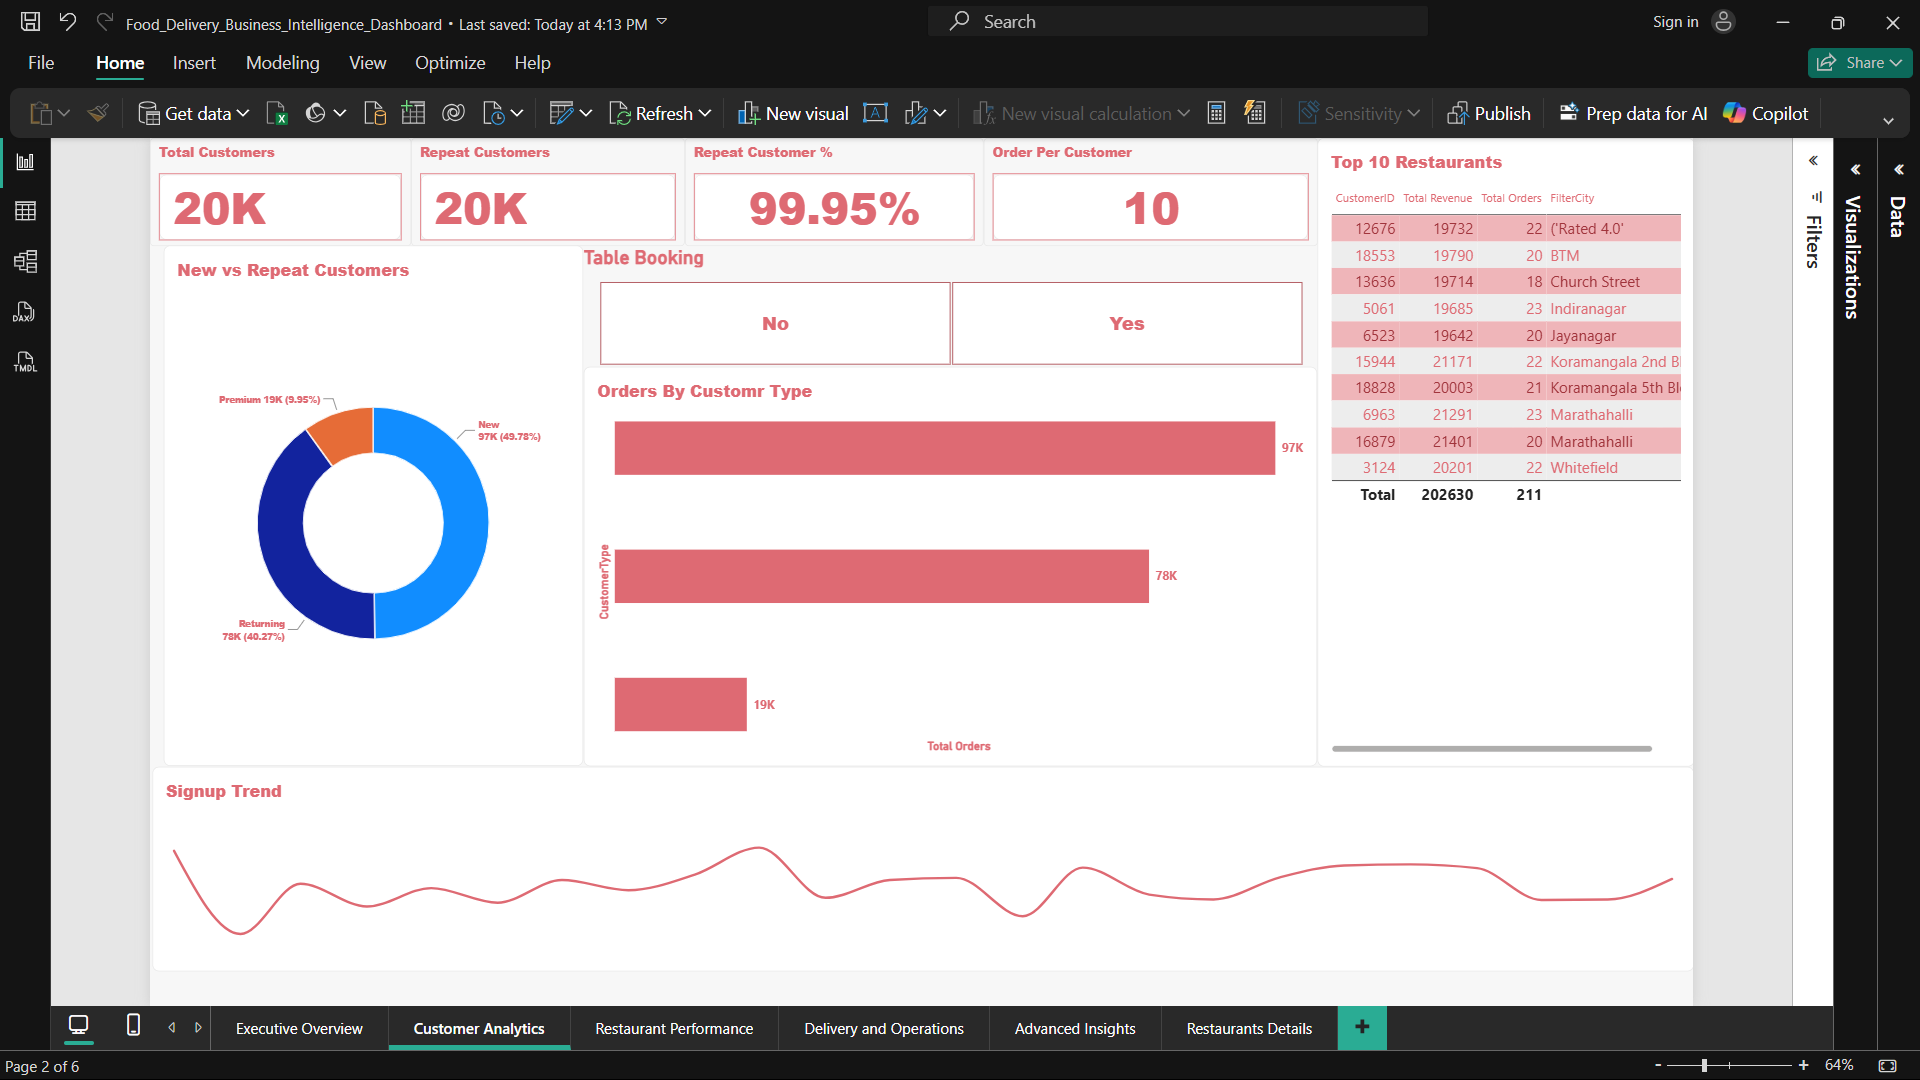

This screenshot's page, from the dashboard's own definition file:
{"tool":"powerbi","page":{"name":"Customer Analytics","canvas":[1920,1080],"ordinal":1},"visuals":[{"type":"cardVisual","title":"Total Customers","fields":{"Data":["Orders.Total Customers"]},"box":[0,0,324.4,134.3],"z":0},{"type":"cardVisual","title":"Repeat Customers","fields":{"Data":["Orders.Repeat Customers"]},"box":[324.4,0,340.1,134.3],"z":1000},{"type":"cardVisual","title":"Repeat Customer %","fields":{"Data":["Orders.Repeat Customer %"]},"box":[664.5,0,371.5,134.3],"z":2000},{"type":"cardVisual","title":"Order Per Customer","fields":{"Data":["Orders.Orders Per Customer"]},"box":[1036,0,415.1,134.3],"z":3000},{"type":"lineChart","title":"Signup Trend","fields":{"Category":["Customers.SignupDate.Variation.Date Hierarchy.Year","Customers.SignupDate.Variation.Date Hierarchy.Month"],"Y":["Orders.Total Customers"]},"box":[3.5,781.4,1916.9,254.7],"z":4000},{"type":"barChart","title":"Orders By Customr Type","fields":{"Y":["Orders.Total Orders"],"Category":["Customers.CustomerType"]},"box":[539,284.3,912.2,497.1],"z":5000},{"type":"donutChart","title":"New vs Repeat Customers","fields":{"Category":["Customers.CustomerType"],"Y":["Orders.Total Orders"]},"box":[17.4,134.3,521.5,647.1],"z":6000},{"type":"tableEx","title":"Top 10 Restaurants","fields":{"Values":["Orders.CustomerID","Orders.Total Revenue","Orders.Total Orders","Customers.FilterCity"]},"box":[1451.2,0,469.2,781.4],"z":7000},{"type":"slicer","title":"Table Booking","fields":{"Values":["Restaurants.Book_Table 2"]},"box":[539,134.3,912.2,150],"z":8000}]}

Visuals, with their boxes on the page's 1920x1080 design canvas (x1, y1, x2, y2). These are canvas units, not pixel positions in the 1920x1080 screenshot, which may show the page scaled, cropped or inside an application window:
"Total Customers" cardVisual: [left=0, top=0, right=324, bottom=134]
"Repeat Customers" cardVisual: [left=324, top=0, right=664, bottom=134]
"Repeat Customer %" cardVisual: [left=664, top=0, right=1036, bottom=134]
"Order Per Customer" cardVisual: [left=1036, top=0, right=1451, bottom=134]
"Signup Trend" lineChart: [left=4, top=781, right=1920, bottom=1036]
"Orders By Customr Type" barChart: [left=539, top=284, right=1451, bottom=781]
"New vs Repeat Customers" donutChart: [left=17, top=134, right=539, bottom=781]
"Top 10 Restaurants" tableEx: [left=1451, top=0, right=1920, bottom=781]
"Table Booking" slicer: [left=539, top=134, right=1451, bottom=284]
